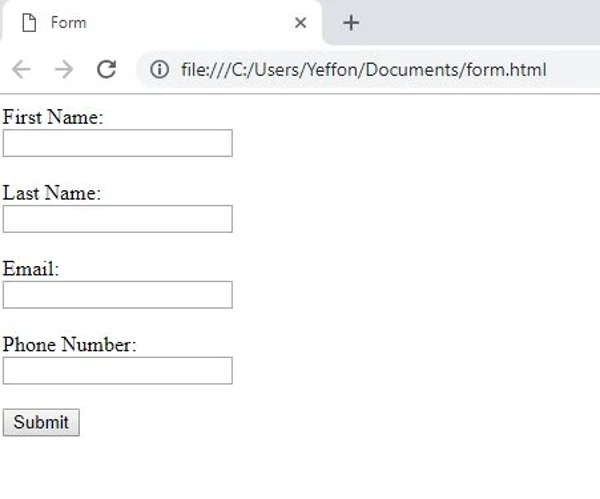_form_: (1, 80, 256, 474)
button: (2, 407, 82, 438)
field: (2, 204, 235, 235), (2, 279, 235, 310), (2, 128, 234, 158), (2, 356, 234, 386)
field_with_label: (1, 107, 236, 161), (1, 184, 237, 237), (1, 259, 236, 312), (1, 334, 236, 387)
